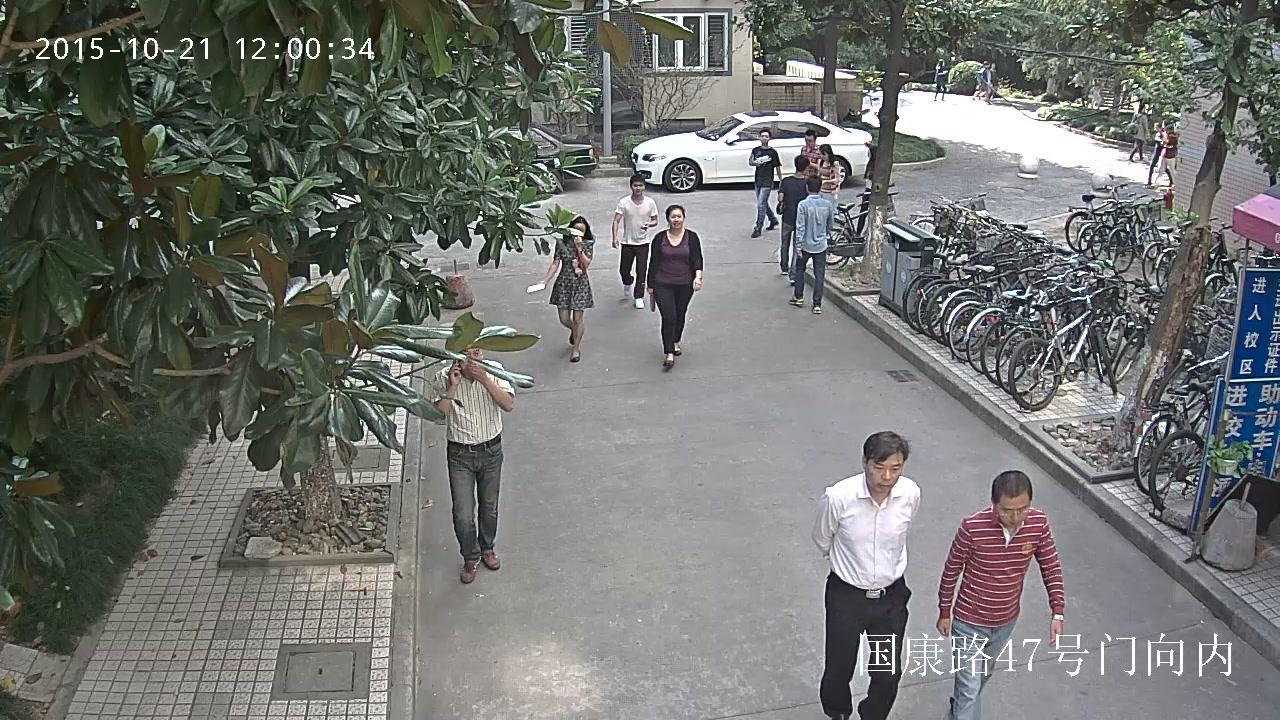face: (866, 451, 902, 491), (999, 492, 1028, 524), (669, 209, 683, 228), (463, 346, 482, 360), (632, 180, 644, 195), (574, 222, 584, 233), (761, 131, 769, 143), (805, 135, 813, 146), (821, 151, 827, 160), (1160, 121, 1166, 129), (990, 63, 996, 69), (1153, 124, 1158, 131), (984, 63, 989, 67), (1143, 106, 1146, 112)
